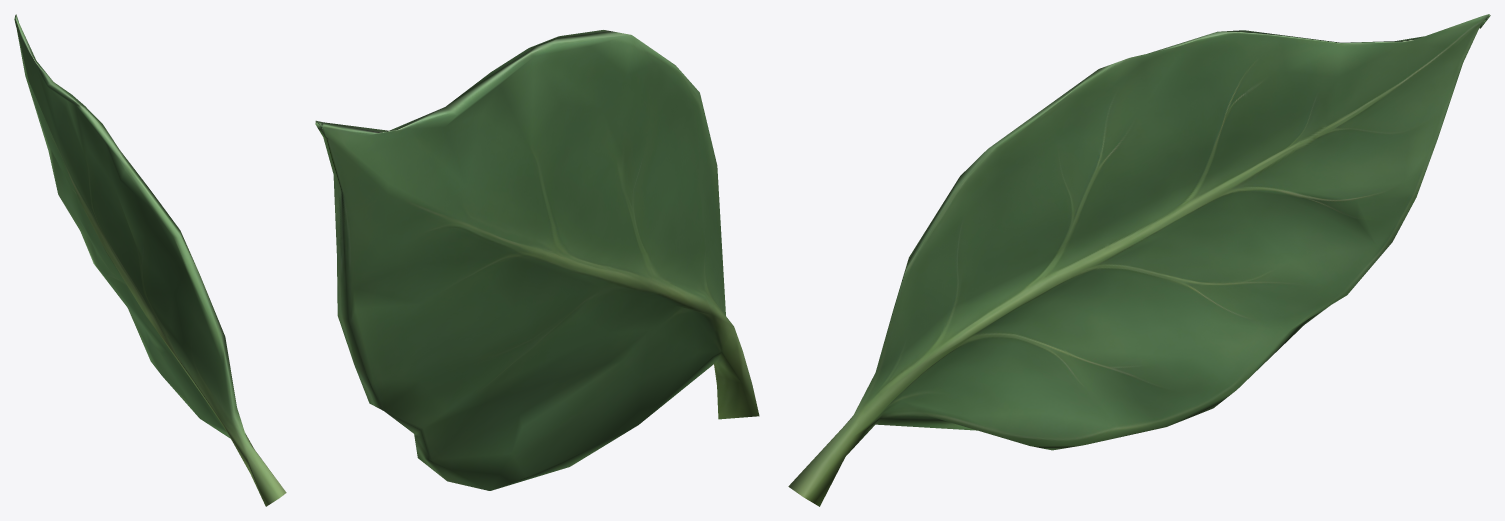
The model's file is tree_single_leaf_source.glb.
The picture shows the model from 3 angles, left to right: view 1: azimuth 30°, elevation 25°; view 2: azimuth 150°, elevation 25°; view 3: azimuth 270°, elevation 25°; orthographic projection. The views are drawn at different scales.
Visible parts, largest first — view 1: tripo_node_51f310f6-96a7-4cf5-a236-280f350ff7fc; view 2: tripo_node_51f310f6-96a7-4cf5-a236-280f350ff7fc; view 3: tripo_node_51f310f6-96a7-4cf5-a236-280f350ff7fc.
Part boxes in pixels (x1=…): tripo_node_51f310f6-96a7-4cf5-a236-280f350ff7fc: x1=14, y1=14, x2=286, y2=506; tripo_node_51f310f6-96a7-4cf5-a236-280f350ff7fc: x1=315, y1=30, x2=759, y2=490; tripo_node_51f310f6-96a7-4cf5-a236-280f350ff7fc: x1=788, y1=14, x2=1490, y2=506.
Bounding box in the file's own units: 0.1448 × 0.7301 × 0.9834.
1 material, 1 textured.
